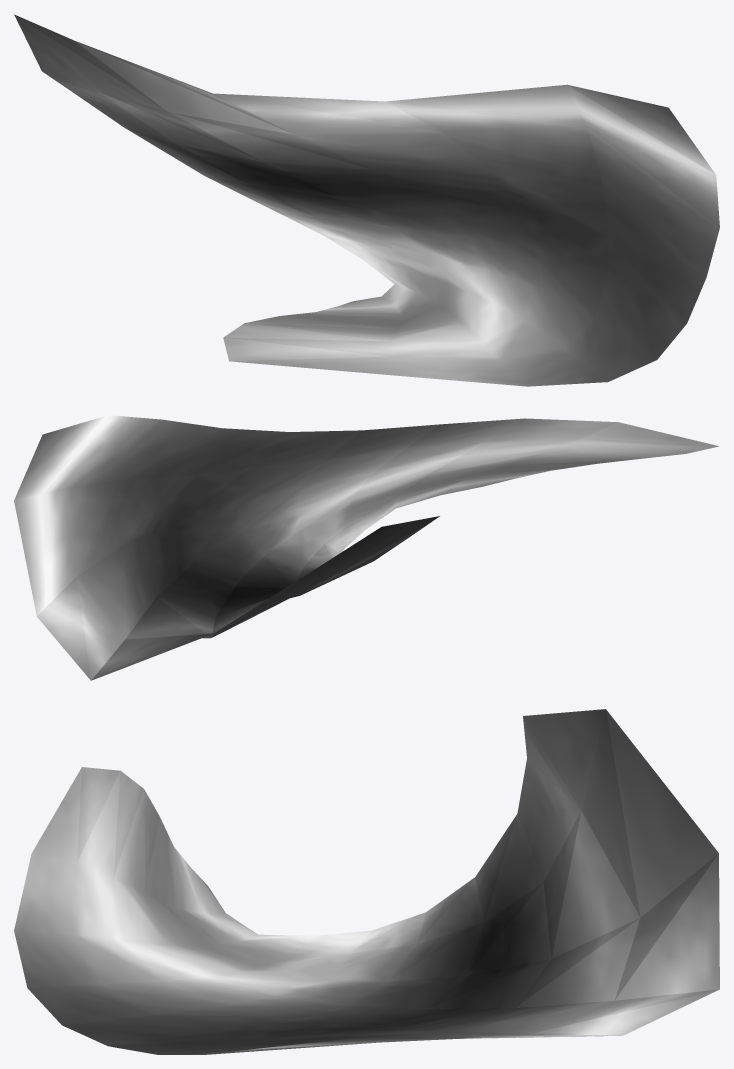
The model's file is 0041_Mikal@Atk1.fbx.
3 views of the same model, one above another, from view 1: azimuth 30°, elevation 25°; view 2: azimuth 150°, elevation 25°; view 3: azimuth 270°, elevation 25° (orthographic). The views are drawn at different scales.
Visible parts, largest first — view 1: daoguang_bo_01; view 2: daoguang_bo_01; view 3: daoguang_bo_01.
Part boxes in pixels (x1,y1,x2,y2): daoguang_bo_01: (14,14,719,386); daoguang_bo_01: (14,415,719,680); daoguang_bo_01: (14,709,719,1054).
Bounding box in the file's own units: 7.12 × 2.25 × 8.24.
Materials: 1 (1 with a texture image).
